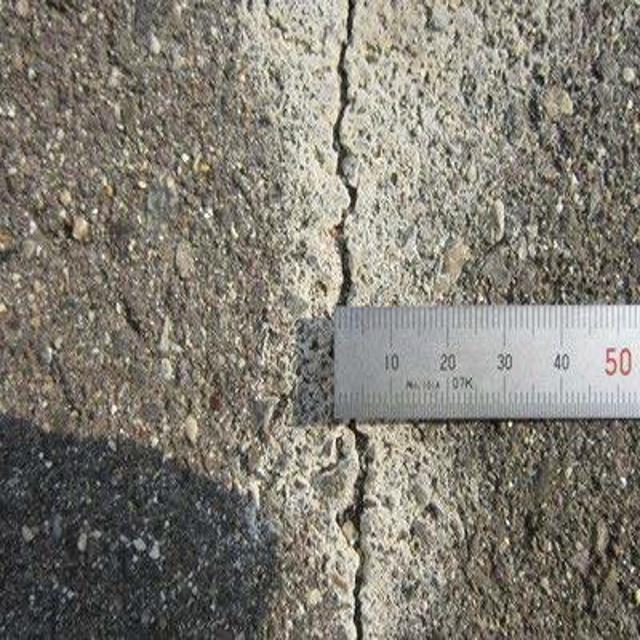crack: (299, 8, 391, 640)
